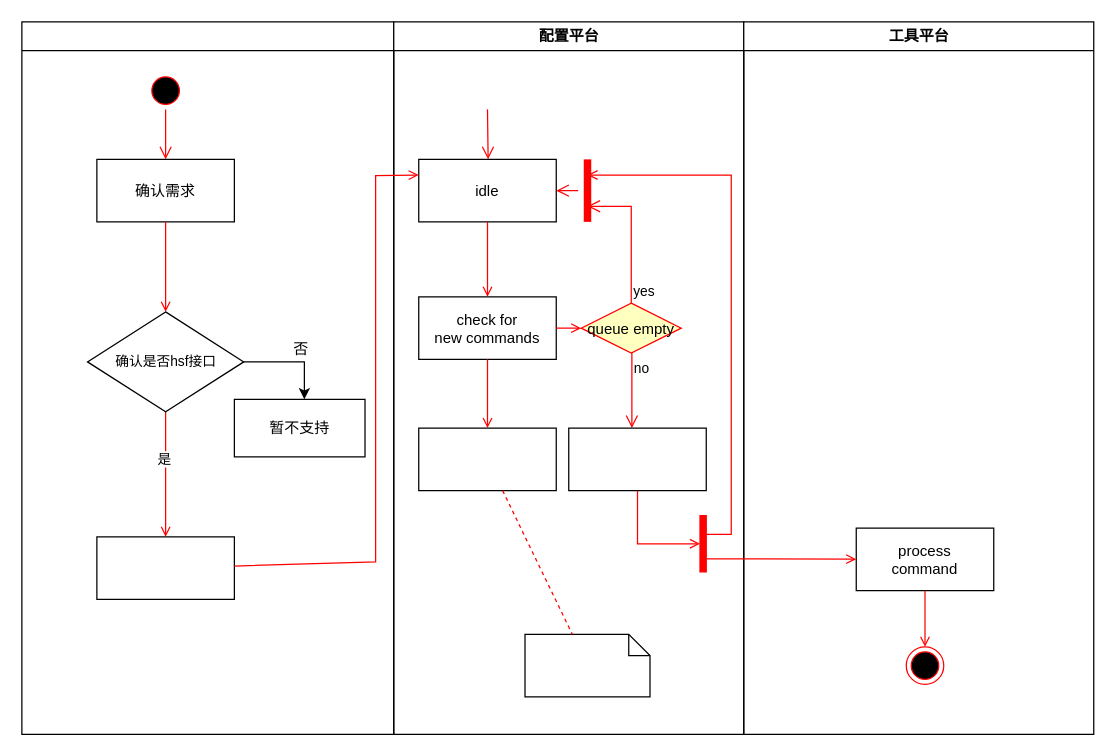
This 1116x756 diagram has some shape labels left out. Here are the shapes that lost their labels. From the top down, the box of each, then its label:
(21, 21, 394, 734): 保障专员
(418, 427, 556, 491): command queue
(568, 427, 706, 491): dispatch command worker thread
(96, 536, 234, 599): 确认接口出入参数 拿到测试数据
(524, 633, 650, 697): critical section
